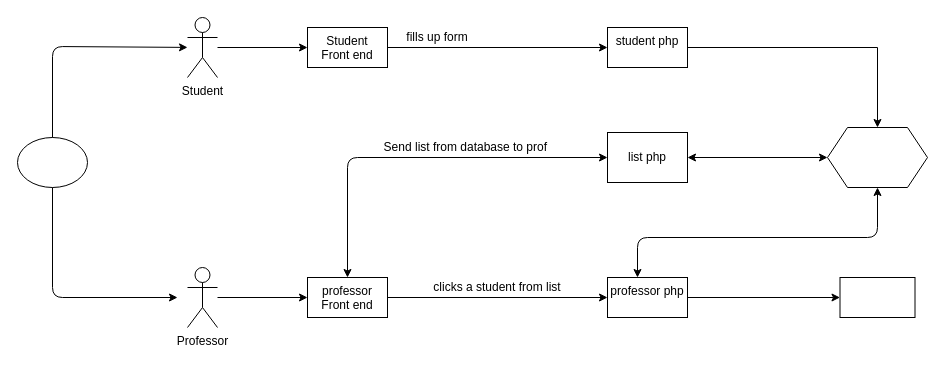
Some shapes in this 945 by 366 pixel diagram are drawn without their labels. Each missing label, with the box of its shape:
login: (16, 136, 88, 188)
mysql db: (826, 126, 928, 188)
student info page: (839, 276, 915, 318)
